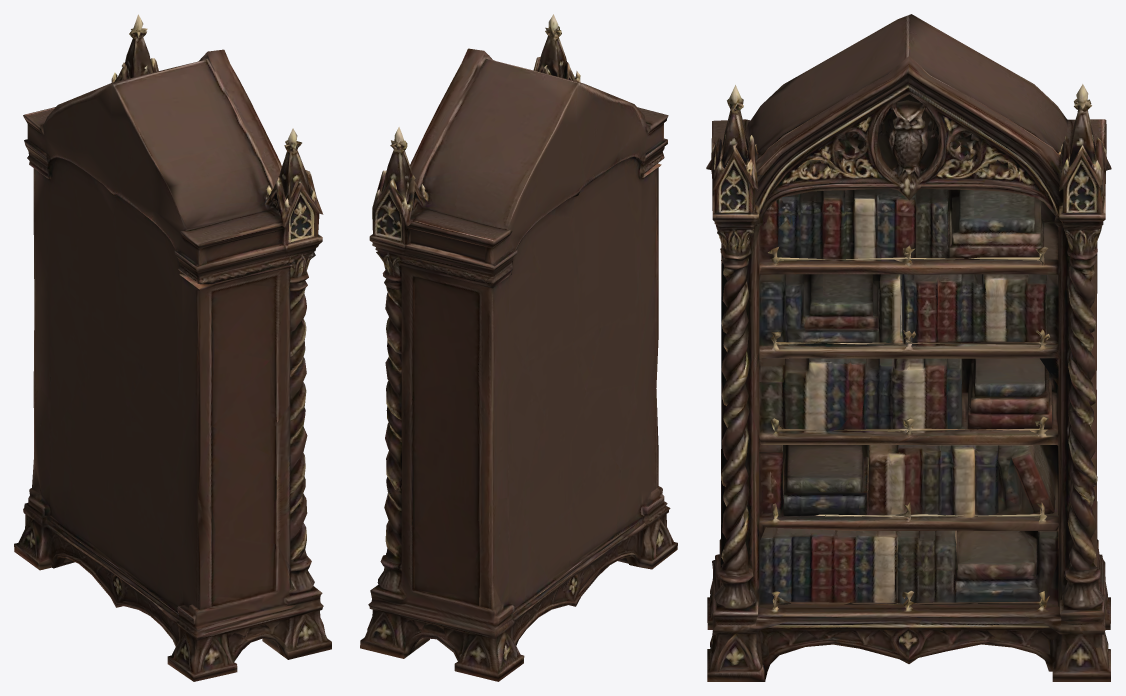
Rendered from bookcase.glb.
3 views of the same model, side by side, from view 1: azimuth 30°, elevation 25°; view 2: azimuth 150°, elevation 25°; view 3: azimuth 270°, elevation 25° (orthographic). The views are drawn at different scales.
Visible parts, largest first — view 1: tripo_node_595e94e7-0b00-402b-b3b2-74fbd7e80b5a; view 2: tripo_node_595e94e7-0b00-402b-b3b2-74fbd7e80b5a; view 3: tripo_node_595e94e7-0b00-402b-b3b2-74fbd7e80b5a.
Part boxes in pixels (x1,y1,x2,y2): tripo_node_595e94e7-0b00-402b-b3b2-74fbd7e80b5a: [14, 14, 331, 681]; tripo_node_595e94e7-0b00-402b-b3b2-74fbd7e80b5a: [360, 14, 677, 681]; tripo_node_595e94e7-0b00-402b-b3b2-74fbd7e80b5a: [706, 14, 1111, 681].
Bounding box in the file's own units: 0.2626 × 0.9799 × 0.5929.
Materials: 1 (1 with a texture image).
